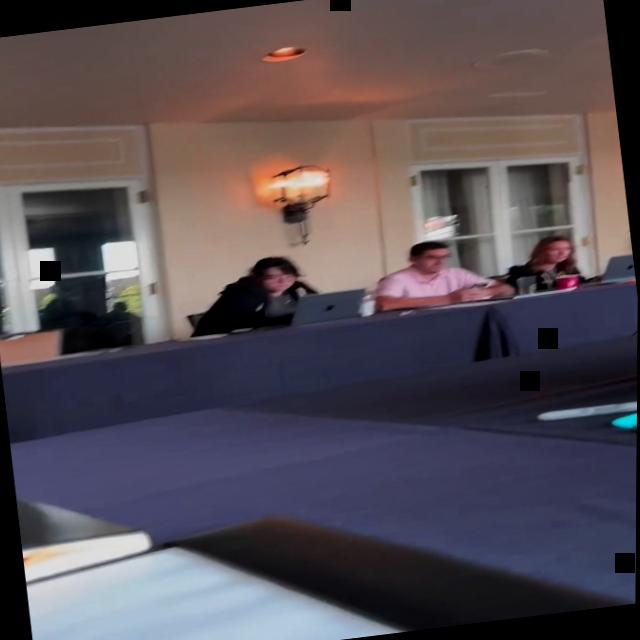NO-Mask: (259, 260, 299, 296), (417, 246, 452, 274), (545, 239, 573, 262)
